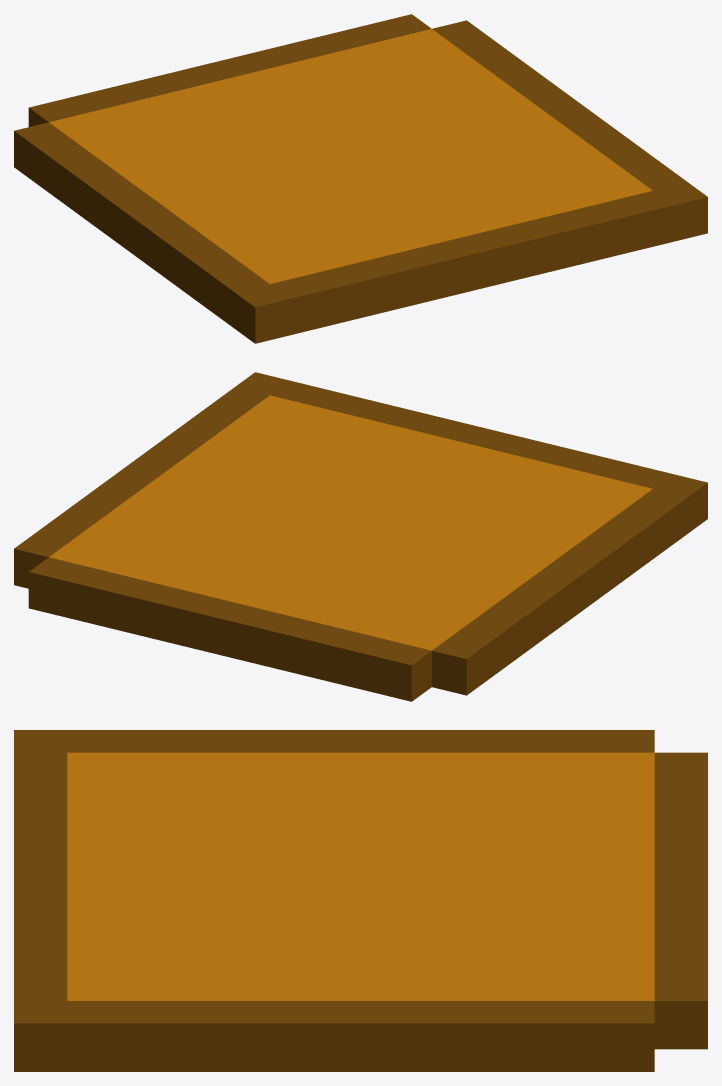
Rendered from toast.obj.
The picture shows the model from 3 angles, top to bottom: view 1: azimuth 30°, elevation 25°; view 2: azimuth 150°, elevation 25°; view 3: azimuth 270°, elevation 25°; orthographic projection. The views are drawn at different scales.
Parts seen in each view (by area): view 1: cube; view 2: cube; view 3: cube.
Part boxes in pixels (x1,y1,x2,y2): cube: (14, 14, 707, 343); cube: (14, 372, 707, 701); cube: (14, 730, 707, 1071).
Bounding box in the file's own units: 0.8125 × 0.0625 × 0.8125.
